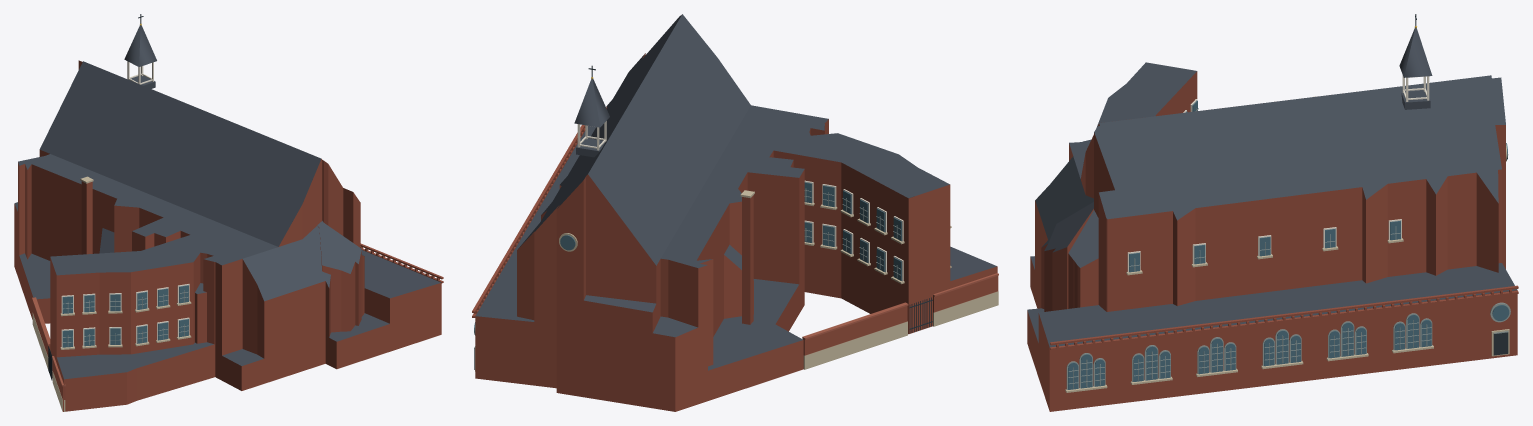
Rendered from nikolaas-myrakerk.glb.
3 renders of one model, left to right at view 1: azimuth 30°, elevation 25°; view 2: azimuth 150°, elevation 25°; view 3: azimuth 270°, elevation 25°, orthographic. The views are drawn at different scales.
Visible parts, largest first — view 1: nikolaas-myrakerk; view 2: nikolaas-myrakerk; view 3: nikolaas-myrakerk.
Part boxes in pixels (bbox=[...]): nikolaas-myrakerk: bbox=[14, 14, 443, 411]; nikolaas-myrakerk: bbox=[472, 14, 998, 411]; nikolaas-myrakerk: bbox=[1027, 14, 1518, 411].
Size of the model in its own units: 41.98 by 27.26 by 39.62.
